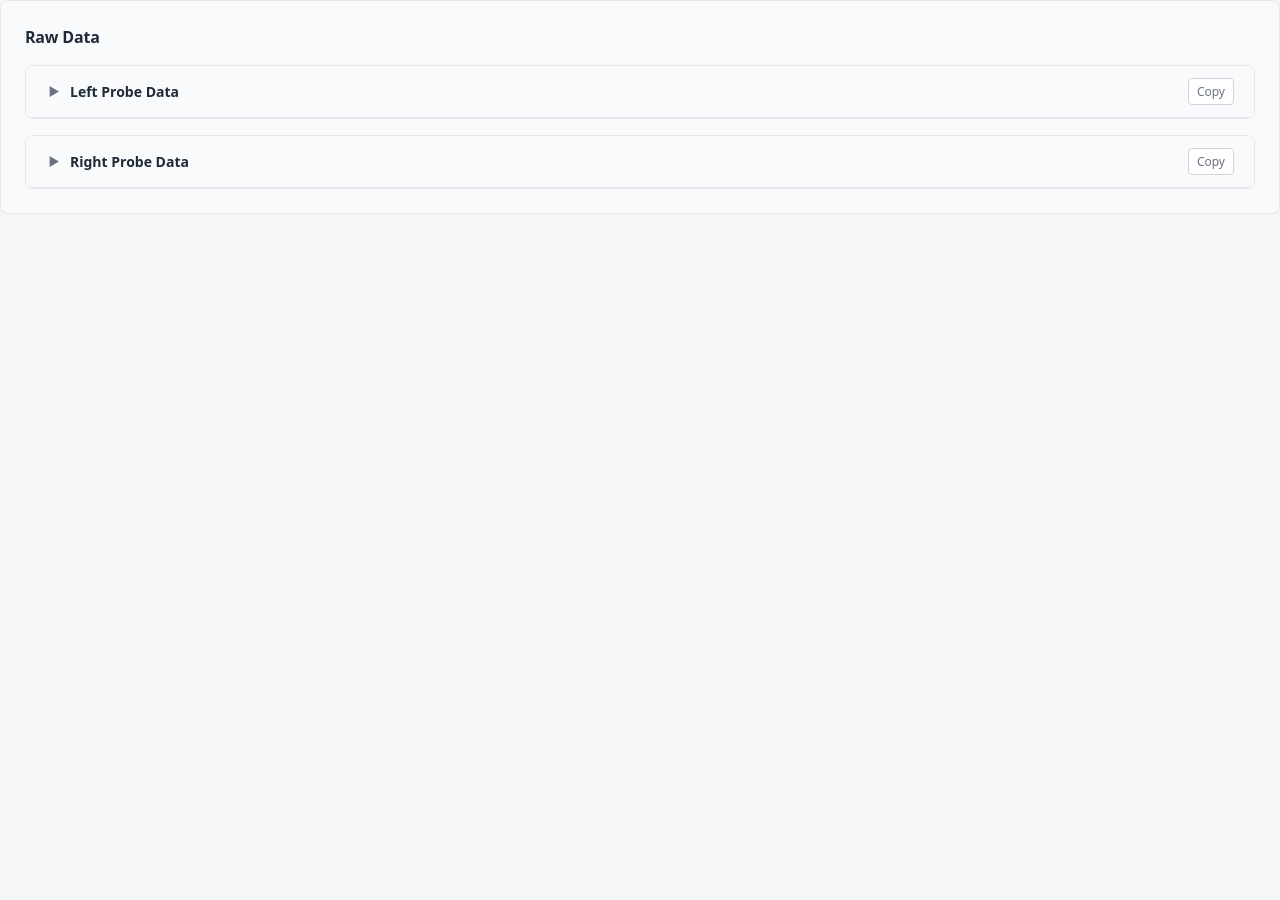
Test: RawDataView › Collapsible Behavior › sections expand/collapse independently
Note: Expand left
Click the button "▶ Left Probe Data" at (124, 92), box [46,82,1180,101]
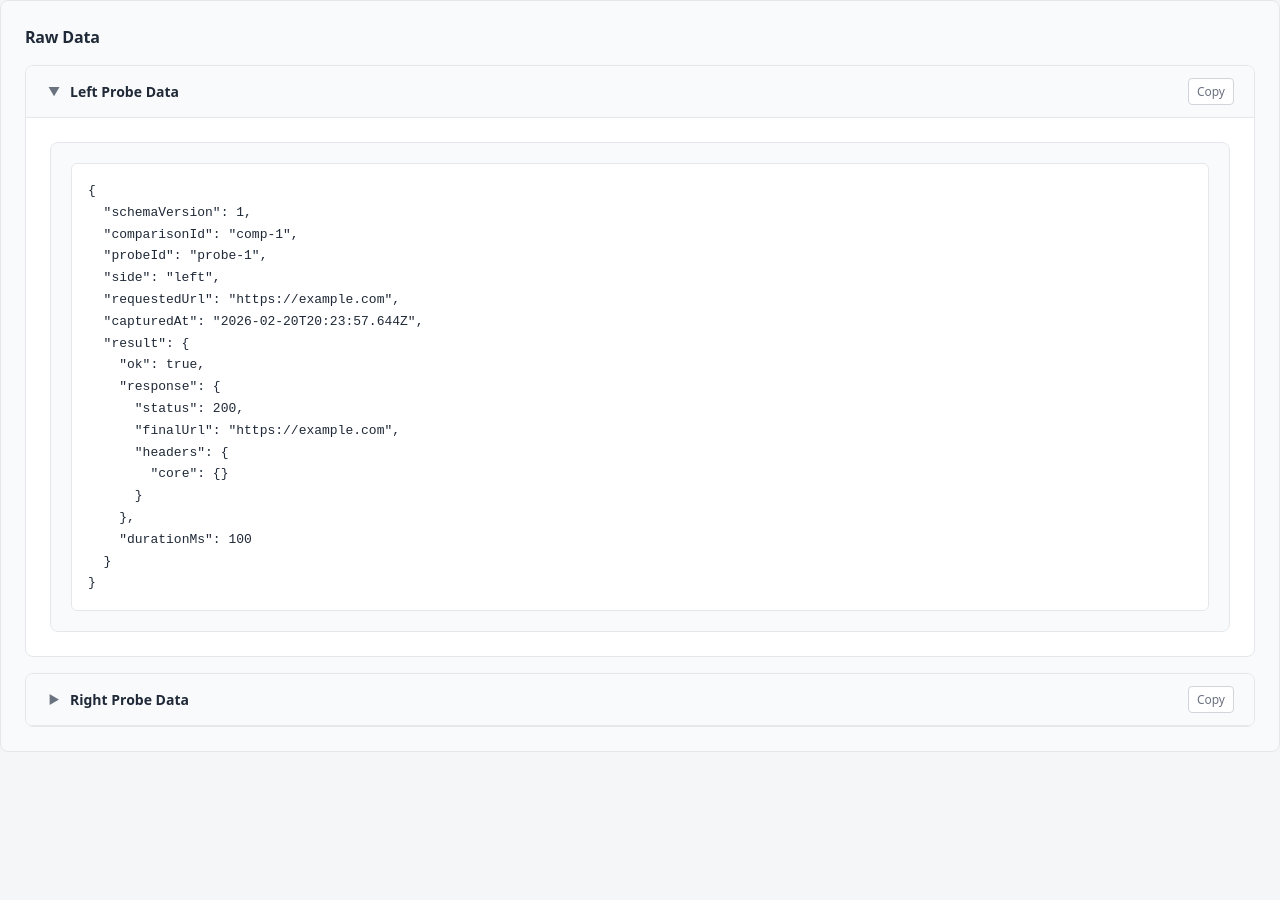
Check: the button "▼ Left Probe Data" is expanded, box [46,82,1180,101]
Note: Expand right
Click the button "▶ Right Probe Data" at (129, 700), box [46,690,1180,709]
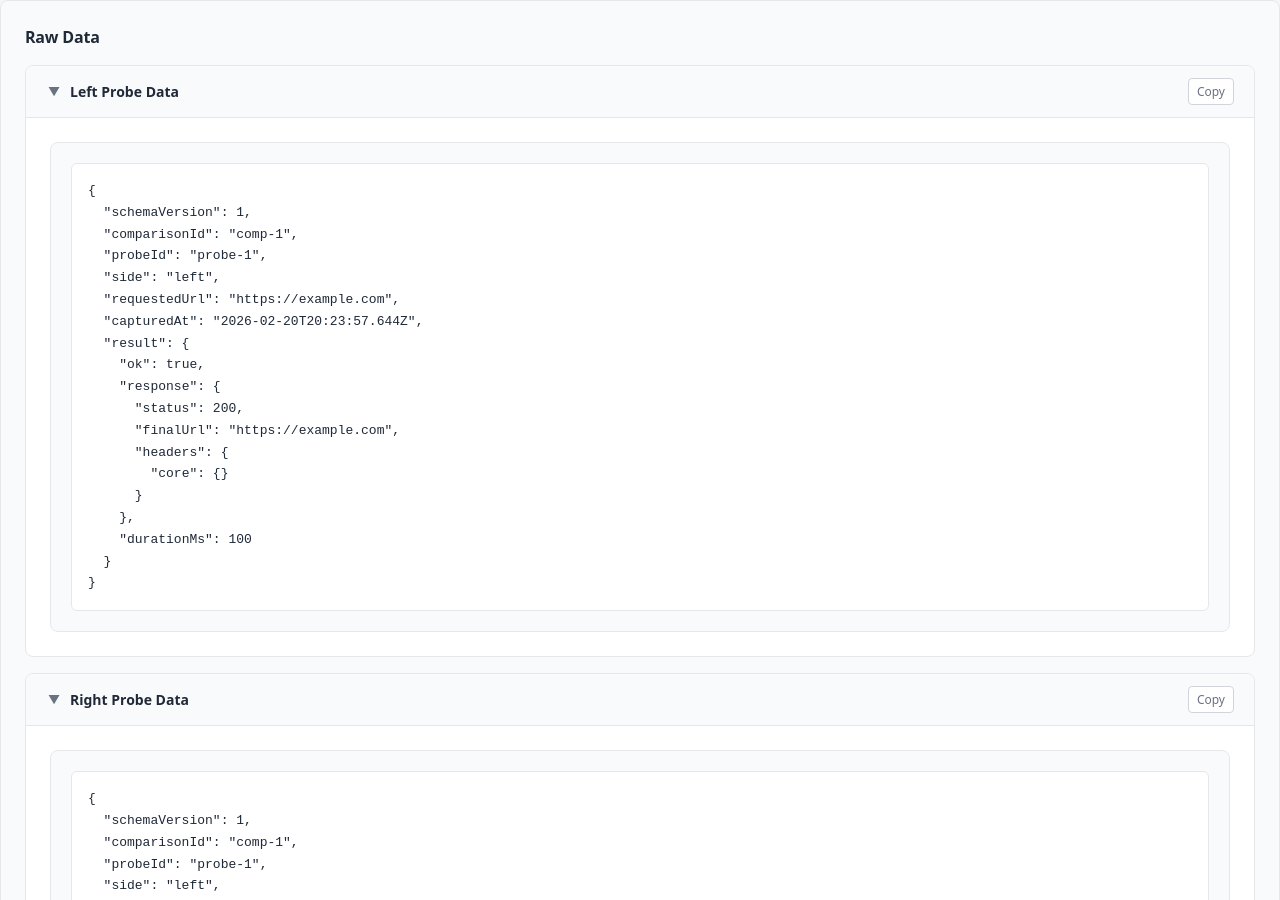
Check: the button "▼ Left Probe Data" is expanded, box [46,82,1180,101]
Check: the button "▼ Right Probe Data" is expanded, box [46,690,1180,709]
